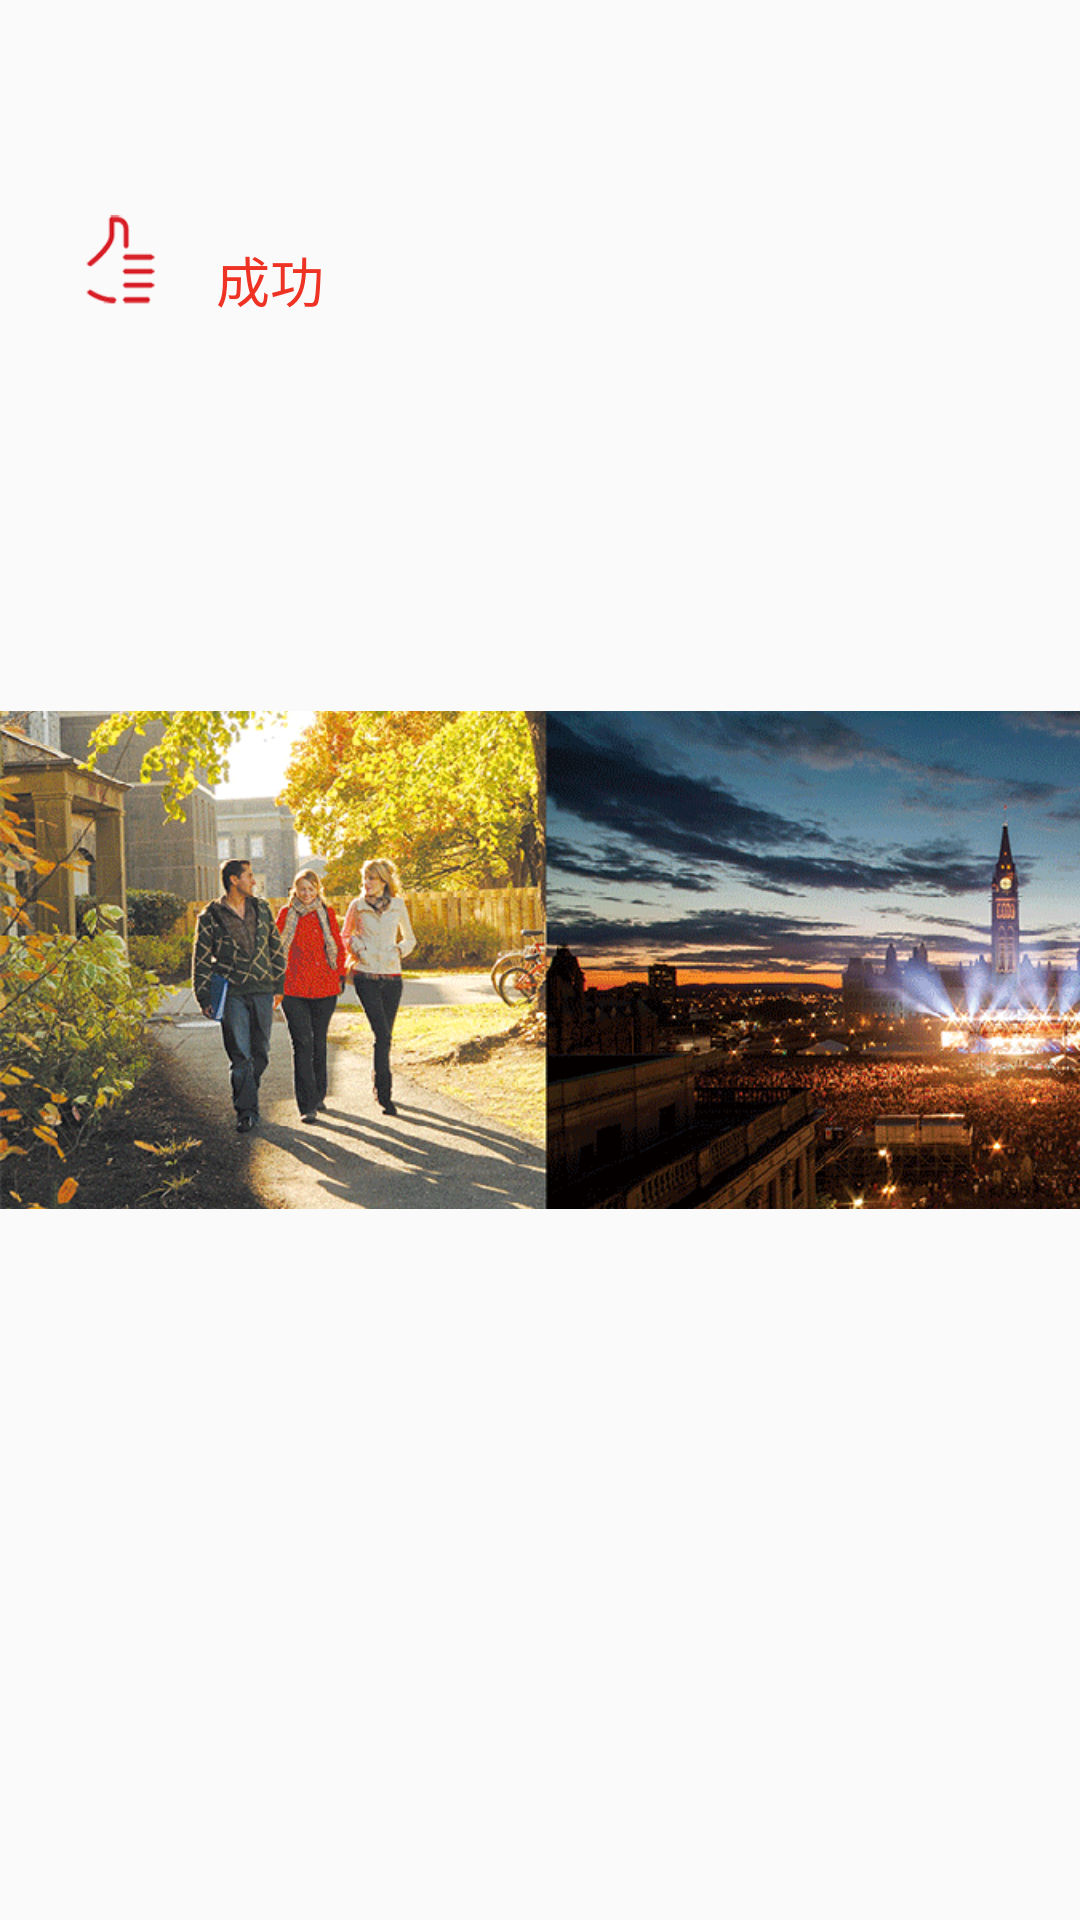

Icon click points for this 1080x1920 phone screenshot, format [x,y]:
sucess: [120,259]
